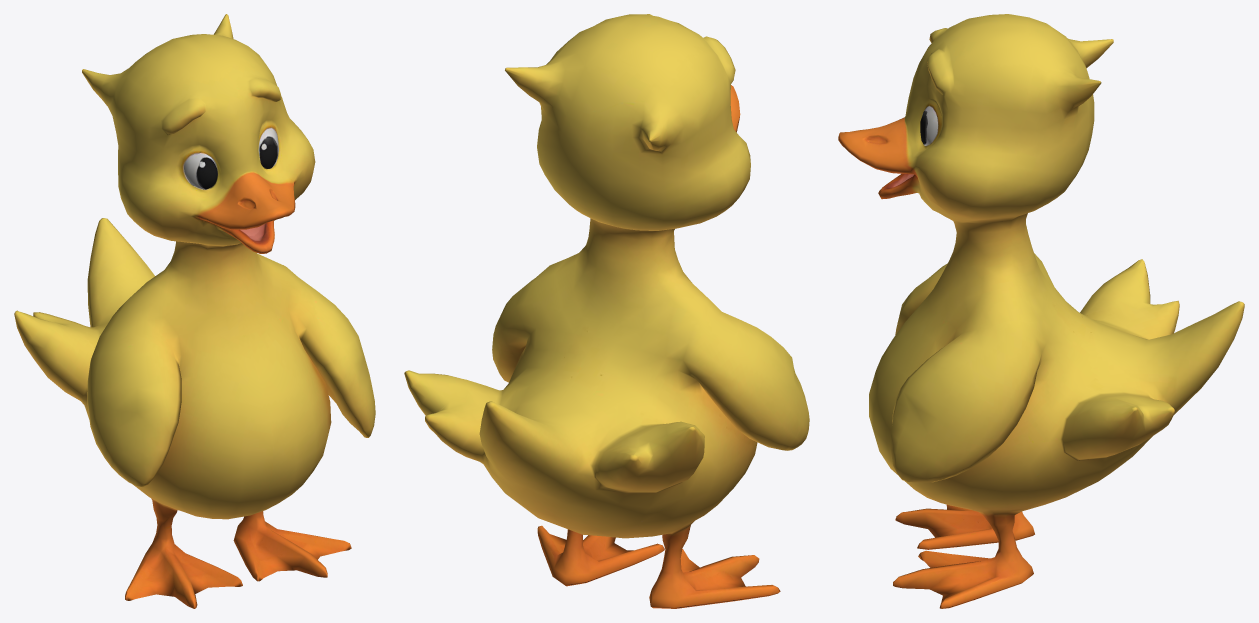
The model's file is selected.glb.
3 renders of one model, left to right at view 1: azimuth 30°, elevation 25°; view 2: azimuth 150°, elevation 25°; view 3: azimuth 270°, elevation 25°, orthographic. The views are drawn at different scales.
Parts seen in each view (by area): view 1: tripo_node_a1e78eab-c254-4883-948d-16a5160a9603; view 2: tripo_node_a1e78eab-c254-4883-948d-16a5160a9603; view 3: tripo_node_a1e78eab-c254-4883-948d-16a5160a9603.
Part boxes in pixels (bbox=[...]): tripo_node_a1e78eab-c254-4883-948d-16a5160a9603: bbox=[14, 14, 375, 608]; tripo_node_a1e78eab-c254-4883-948d-16a5160a9603: bbox=[404, 14, 809, 608]; tripo_node_a1e78eab-c254-4883-948d-16a5160a9603: bbox=[838, 14, 1244, 608].
Size of the model in its own units: 0.5527 by 0.998 by 0.6973.
Materials: 1 (1 with a texture image).
